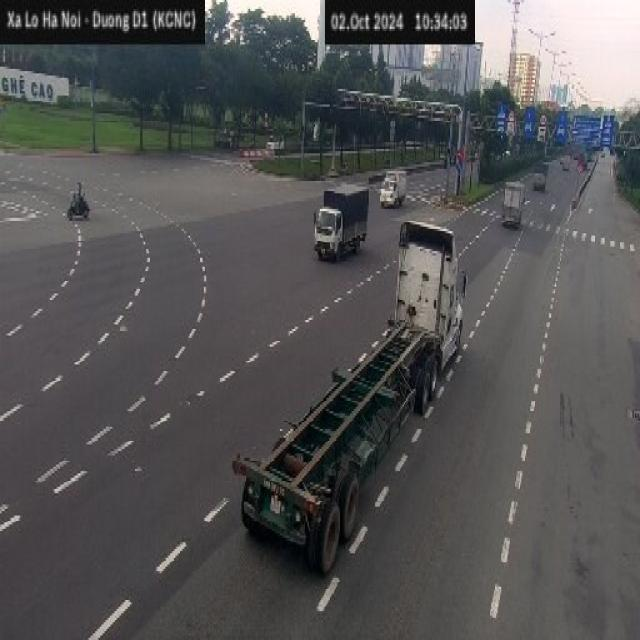container-truck: (232, 218, 466, 573)
motorcycle: (66, 180, 90, 220)
person: (454, 142, 465, 196)
truck: (312, 182, 368, 262), (500, 180, 525, 227)
